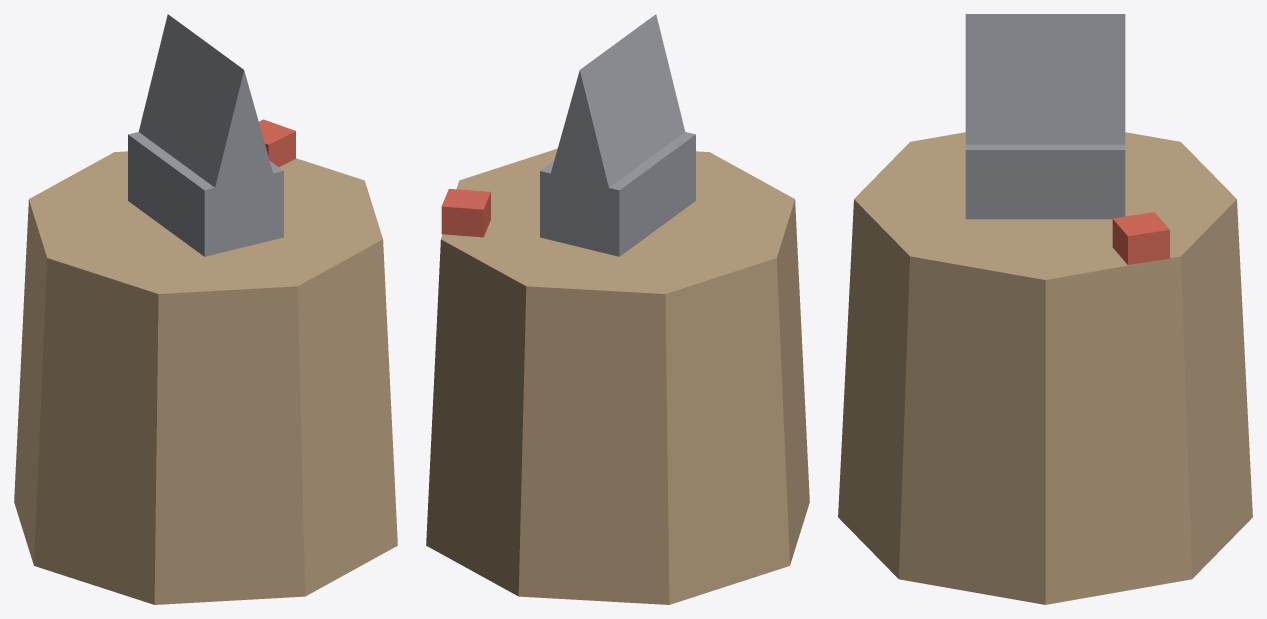
Rendered from prop-cutting-hardie.fbx.
3 views of the same model, side by side, from view 1: azimuth 30°, elevation 25°; view 2: azimuth 150°, elevation 25°; view 3: azimuth 270°, elevation 25° (orthographic). The views are drawn at different scales.
Parts seen in each view (by area): view 1: prop-cutting-hardie; view 2: prop-cutting-hardie; view 3: prop-cutting-hardie.
Part boxes in pixels (x1=…): prop-cutting-hardie: x1=14, y1=14, x2=397, y2=604; prop-cutting-hardie: x1=426, y1=14, x2=809, y2=604; prop-cutting-hardie: x1=838, y1=14, x2=1252, y2=604.
Bounding box in the file's own units: 13 × 17.4 × 13.
